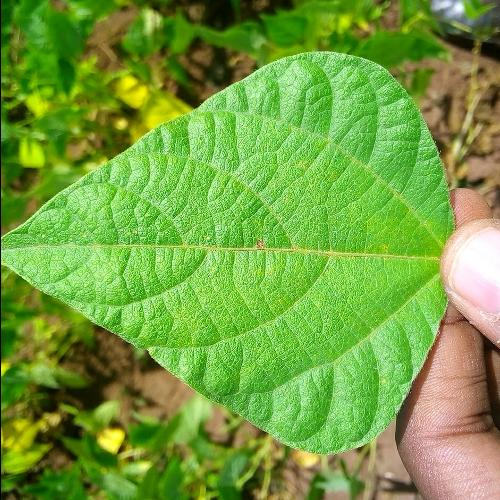hawar: (237, 202, 296, 267)
